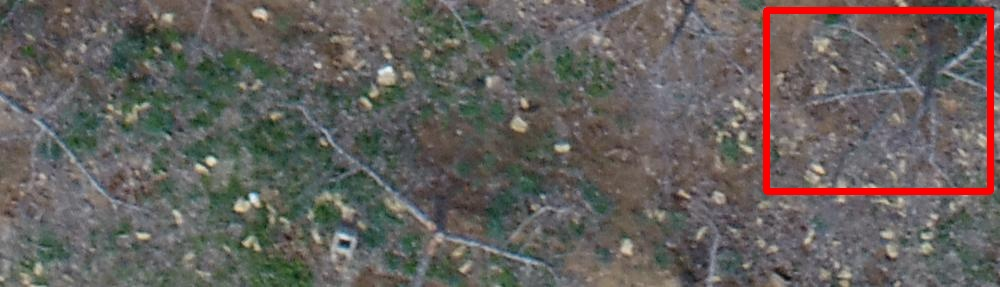apple: (766, 10, 990, 191)
